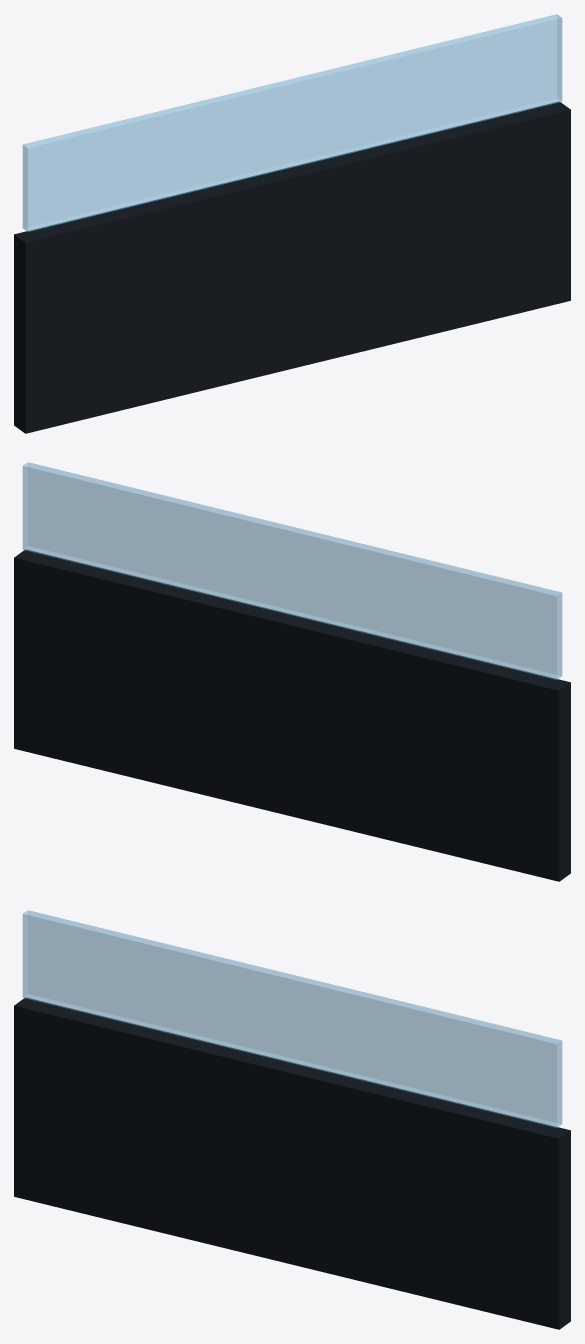
File: window.high_clerestory.glb
The picture shows the model from 3 angles, top to bottom: view 1: azimuth 30°, elevation 25°; view 2: azimuth 150°, elevation 25°; view 3: azimuth 330°, elevation 25°; orthographic projection.
Parts seen in each view (by area): view 1: lower_wall_band, high_glass; view 2: lower_wall_band, high_glass; view 3: lower_wall_band, high_glass.
Part boxes in pixels (box(x1,y1,x2,y2)): lower_wall_band: box(14, 101, 570, 433); high_glass: box(22, 14, 562, 231); lower_wall_band: box(14, 549, 570, 881); high_glass: box(22, 462, 562, 679); lower_wall_band: box(14, 997, 570, 1329); high_glass: box(22, 910, 562, 1127).
Size of the model in its own units: 4.9 by 2.42 by 0.18.
